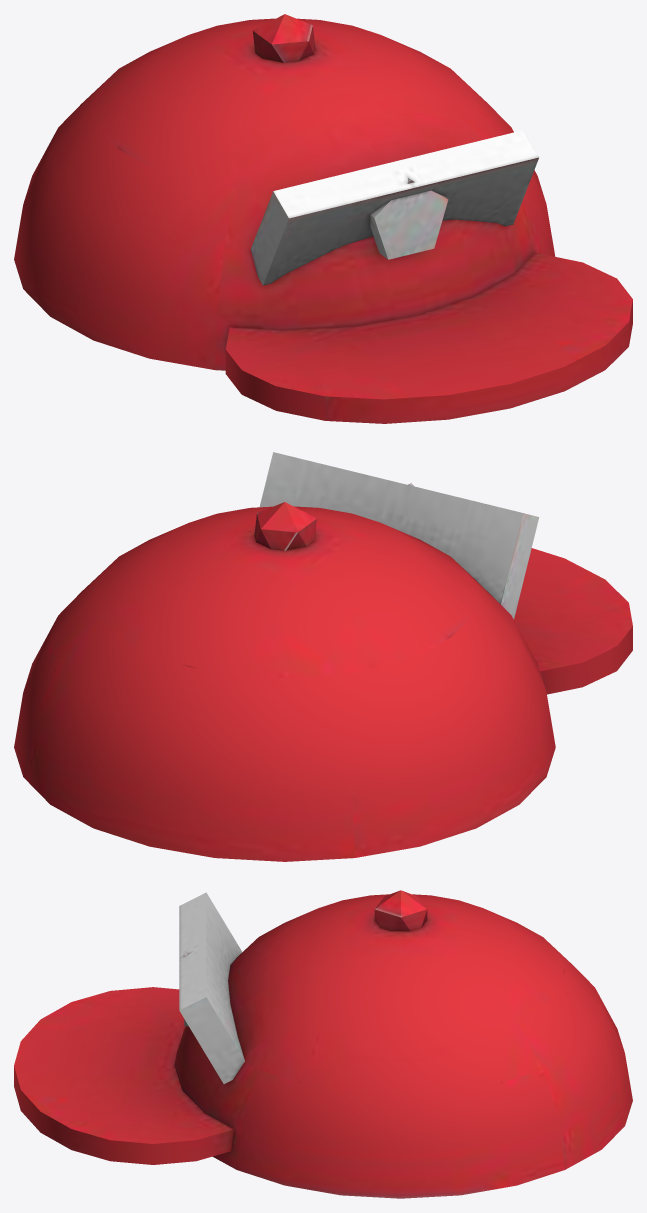
Rendered from gorra.glb.
3 views of the same model, one above another, from view 1: azimuth 30°, elevation 25°; view 2: azimuth 150°, elevation 25°; view 3: azimuth 270°, elevation 25° (orthographic). The views are drawn at different scales.
Visible parts, largest first — view 1: gorra; view 2: gorra; view 3: gorra.
Boxes of the visible parts, x1,y1,x2,y2 form: gorra: (14, 14, 632, 423); gorra: (14, 452, 632, 861); gorra: (14, 890, 632, 1198).
Size of the model in its own units: 0.6 by 0.3 by 0.8.
1 material, 1 textured.
